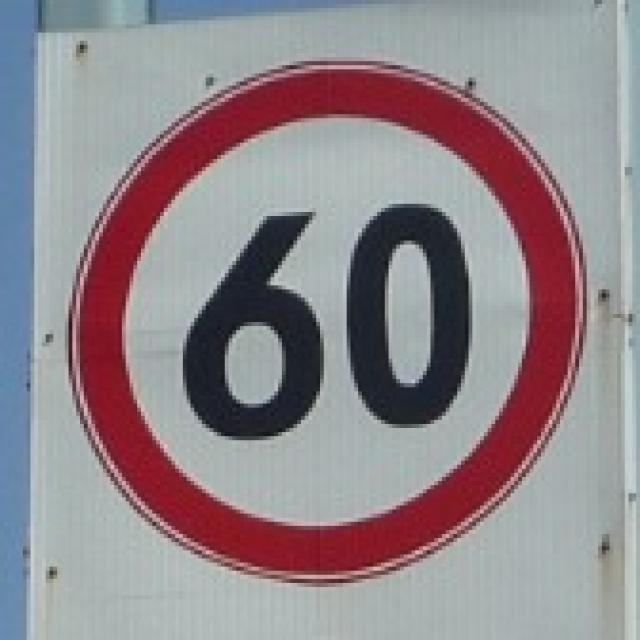Speed Limit -60-: (178, 199, 472, 449)
